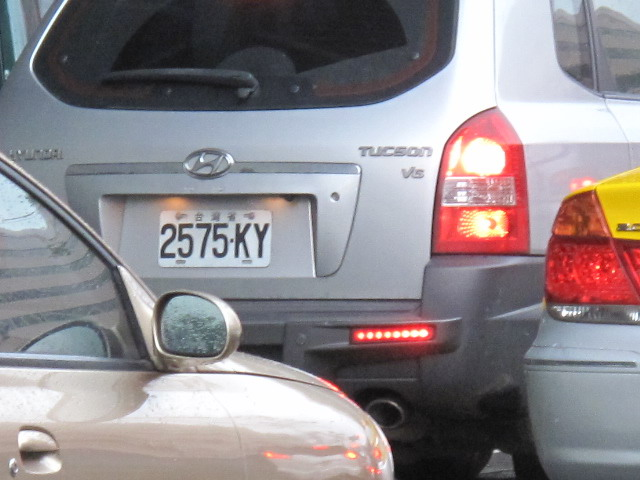plate: (156, 206, 276, 272)
